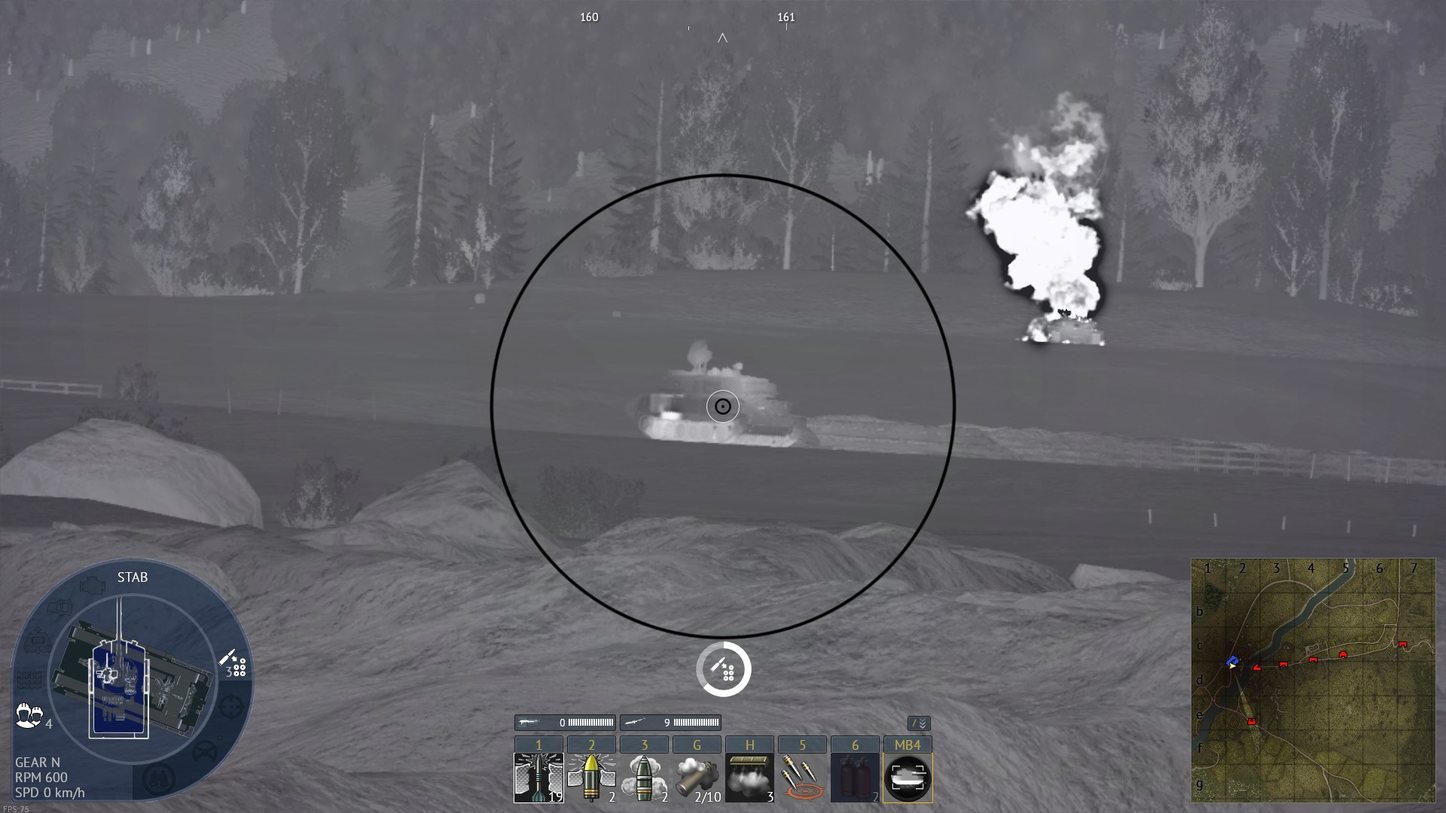spaa_zsu-23: (631, 338, 807, 448)
